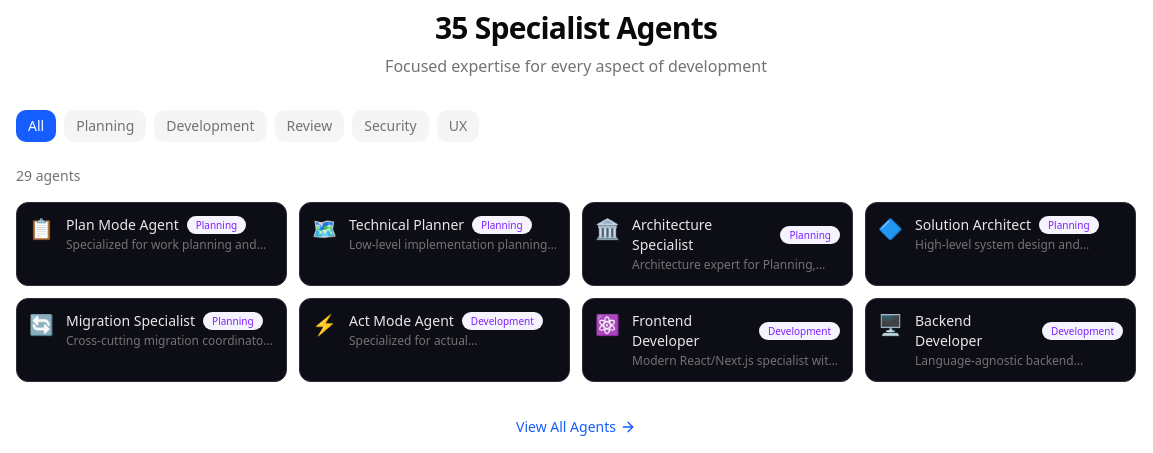
Test: AgentsShowcase › should filter agents when category button is clicked
Click the button "Security" at point(390, 126), box left=352, top=110, right=429, bottom=142
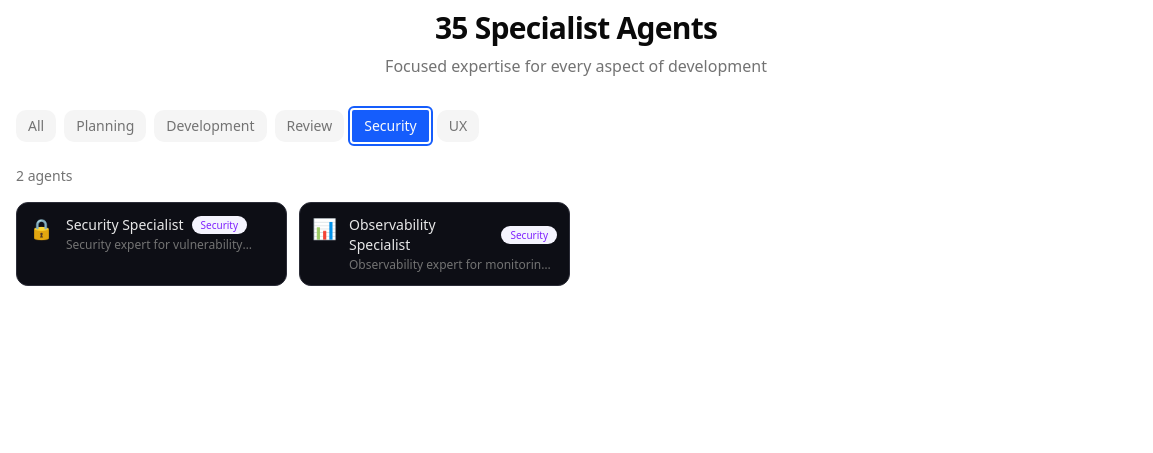
expect the text "Security Specialist" is shown: met, box left=66, top=215, right=184, bottom=235
expect the text "Frontend Developer" is gone: met
